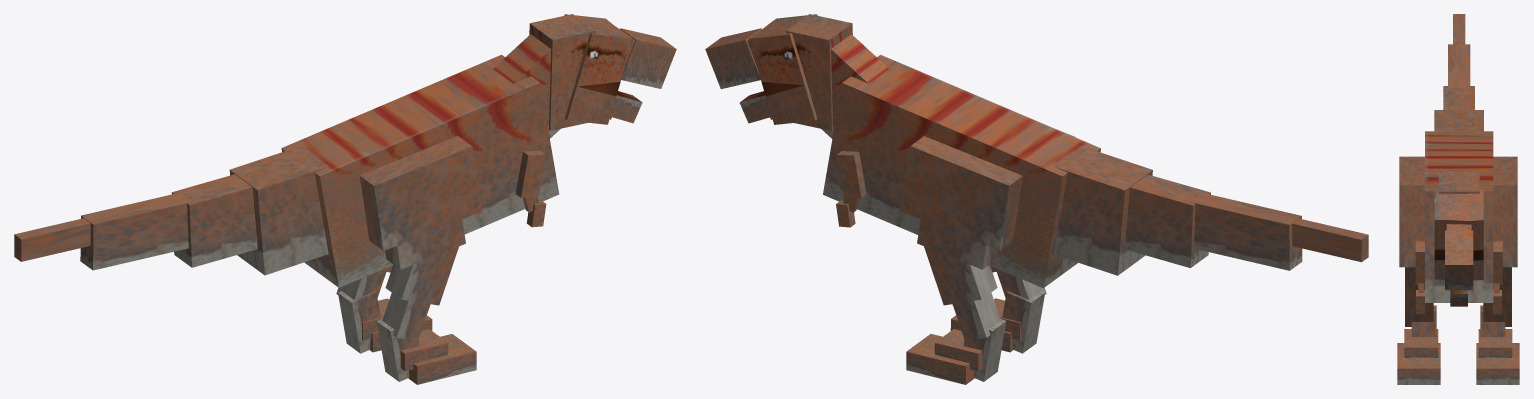
The model's file is TRex.fbx.
The picture shows the model from 3 angles, left to right: view 1: azimuth 30°, elevation 25°; view 2: azimuth 150°, elevation 25°; view 3: azimuth 270°, elevation 25°; orthographic projection. The views are drawn at different scales.
Visible parts, largest first — view 1: Cube.005, Cube.012, Cube.009, Cube.006, Cube.011, Cube.010, Cube.013, Cube.020, Cube.008, Cube.001, Cube.007, Cube.016 (+5 smaller); view 2: Cube.005, Cube.018, Cube.009, Cube.006, Cube.011, Cube.010, Cube.017, Cube.021, Cube.008, Cube.001, Cube.007, Cube.019 (+5 smaller); view 3: Cube.005, Cube.006, Cube.012, Cube.018, Cube.020, Cube.021, Cube.001, Cube.009, Cube.011, Cube.013, Cube.017, Cube.010 (+6 smaller).
Boxes of the visible parts, x1,y1,x2,y2 form: Cube.005: (281,54,559,287); Cube.012: (359,136,482,269); Cube.009: (229,146,328,275); Cube.006: (529,14,633,130); Cube.011: (80,192,192,270); Cube.010: (171,174,257,267); Cube.013: (382,246,458,341); Cube.020: (400,329,476,384); Cube.008: (14,218,90,261); Cube.001: (620,28,676,88); Cube.007: (493,34,560,138); Cube.016: (515,150,546,227); Cube.005: (823,54,1100,288); Cube.018: (900,136,1022,269); Cube.009: (1054,146,1152,275); Cube.006: (748,14,852,130); Cube.011: (1190,193,1302,270); Cube.010: (1125,174,1210,267); Cube.017: (924,246,1000,341); Cube.021: (906,329,982,384); Cube.008: (1292,218,1368,262); Cube.001: (705,28,761,88); Cube.007: (821,34,888,138); Cube.019: (836,151,866,227); Cube.005: (1425,131,1493,302); Cube.006: (1434,171,1483,280); Cube.012: (1399,156,1424,267); Cube.018: (1493,156,1517,267); Cube.020: (1397,329,1440,384); Cube.021: (1476,329,1519,384); Cube.001: (1445,224,1473,290); Cube.009: (1434,110,1483,135); Cube.011: (1448,44,1470,88); Cube.013: (1405,267,1433,326); Cube.017: (1483,267,1511,326); Cube.010: (1443,86,1474,109).
Bounding box in the file's own units: 349 × 148 × 63.85.
